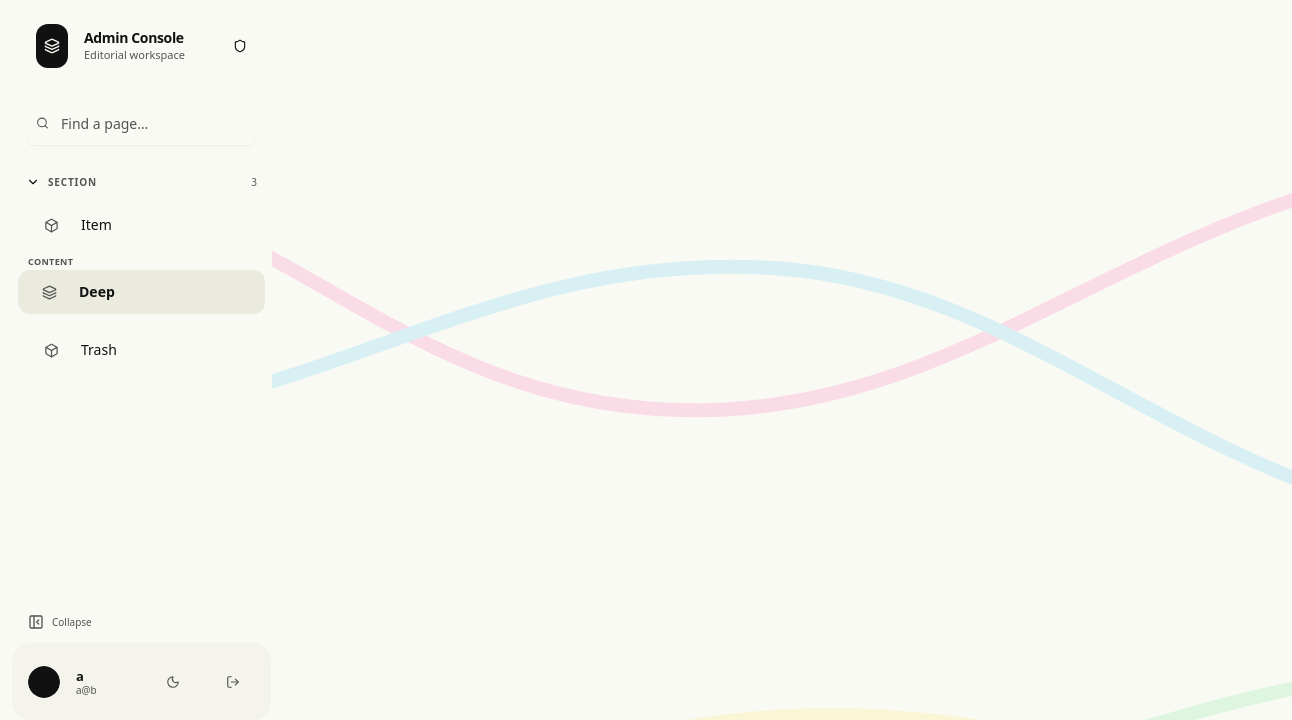
Test: AdminSidebar › keeps the current destination reachable when its section is collapsed
Click the button "SECTION 3": (142, 182) [18,162,265,202]
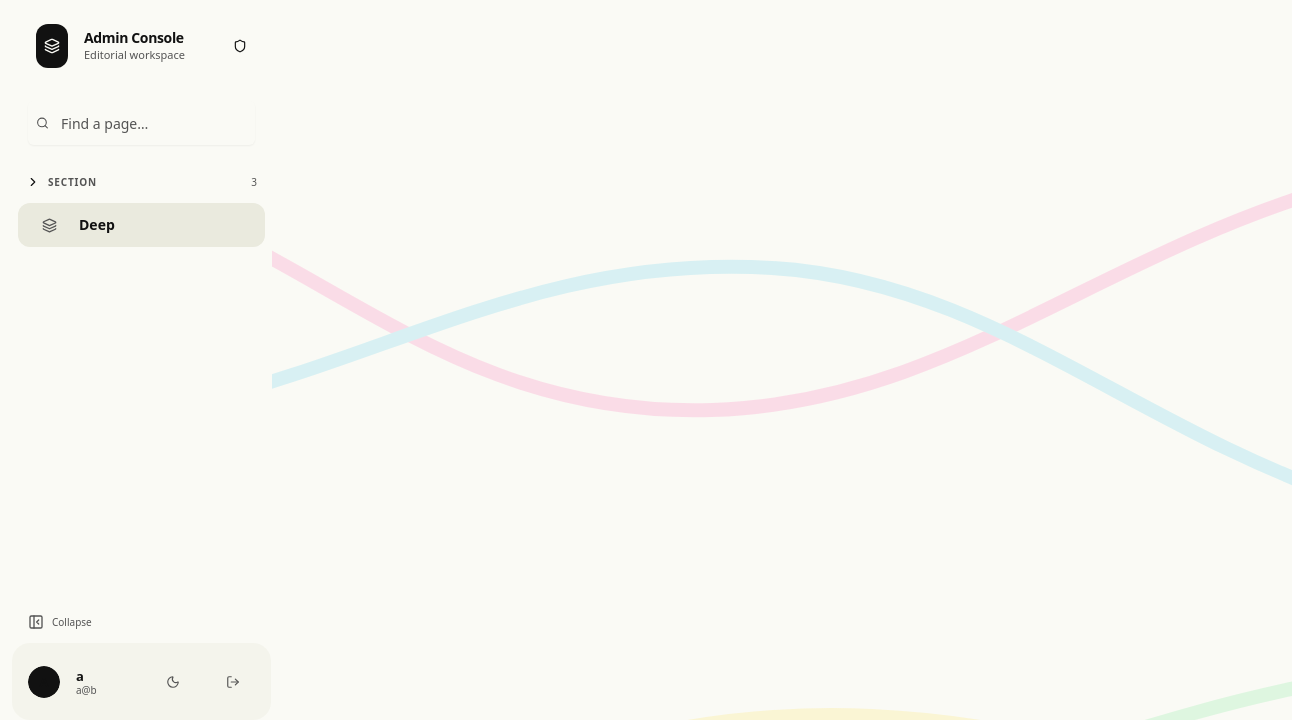
expect the link to "/admin/x/deep" is shown: met, box [18,203,265,247]
expect the link to "/admin/x" is gone: met
